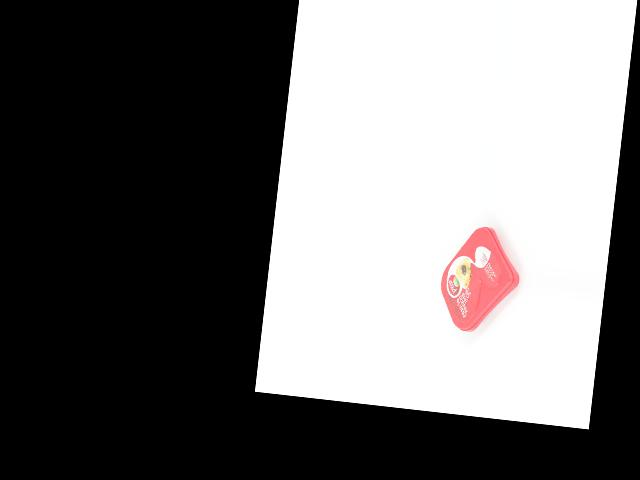cheese: (435, 221, 525, 337)
